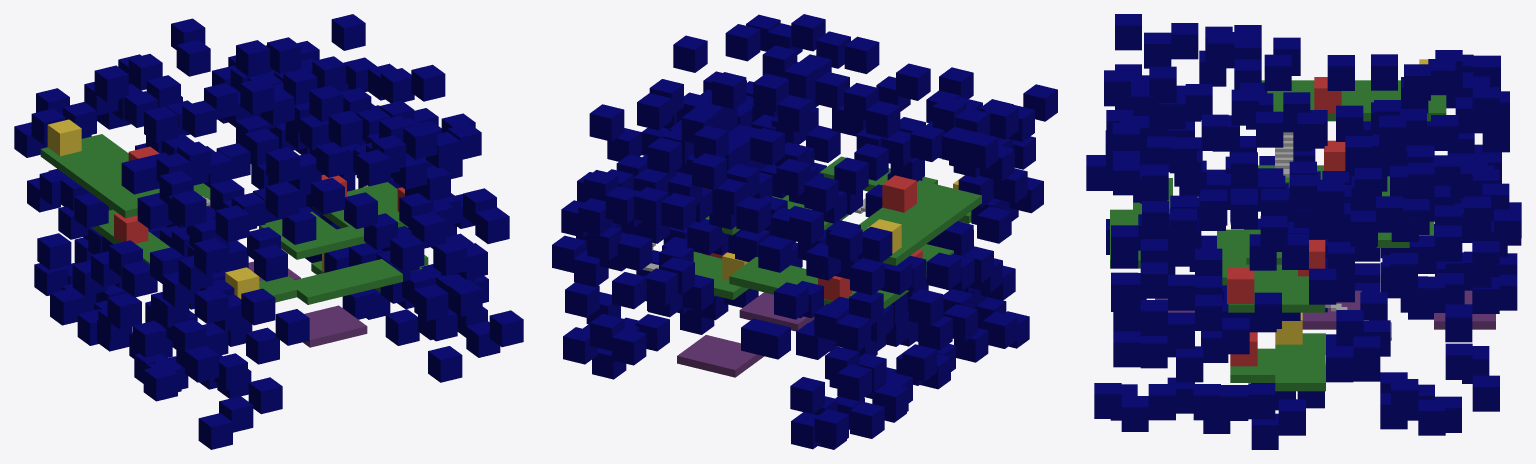
Rendered from l4Blockout01.fbx.
3 renders of one model, left to right at view 1: azimuth 30°, elevation 25°; view 2: azimuth 150°, elevation 25°; view 3: azimuth 270°, elevation 25°, orthographic. The views are drawn at different scales.
Visible parts, largest first — view 1: upp_cubes_L, upp_cubes_R, low_cubes_L, mid_cubes_L, mid_cubes_R, low_cubes_R, upp_platform, platform02, movePlatform01, platform03, platform05, upp_glitch (+4 smaller); view 2: upp_cubes_R, upp_cubes_L, mid_cubes_L, low_cubes_L, mid_cubes_R, low_cubes_R, upp_platform, movePlatform03, platform07, movePlatform02, upp_Victim, platform08 (+3 smaller); view 3: upp_cubes_R, mid_cubes_R, upp_cubes_L, low_cubes_R, mid_cubes_L, low_cubes_L, platform08, platform05, upp_platform, platform09, platform03, mid_Victim04 (+10 smaller).
Part boxes in pixels (box(x1,y1,x2,y2)): upp_cubes_L: box(14, 40, 344, 274); upp_cubes_R: box(171, 14, 481, 228); low_cubes_L: box(34, 233, 282, 449); mid_cubes_L: box(27, 143, 316, 345); mid_cubes_R: box(250, 84, 509, 303); low_cubes_R: box(266, 173, 523, 382); upp_platform: box(40, 134, 159, 218); platform02: box(288, 259, 402, 304); movePlatform01: box(303, 305, 367, 347); platform03: box(259, 212, 349, 259); platform05: box(312, 182, 408, 232); upp_glitch: box(47, 119, 81, 156); upp_cubes_R: box(577, 14, 879, 235); upp_cubes_L: box(736, 63, 1057, 295); mid_cubes_L: box(741, 117, 1043, 359); low_cubes_L: box(790, 258, 1029, 449); mid_cubes_R: box(552, 107, 840, 309); low_cubes_R: box(563, 227, 802, 379); upp_platform: box(859, 180, 981, 265); movePlatform03: box(677, 335, 763, 377); platform07: box(729, 257, 854, 305); movePlatform02: box(739, 292, 814, 331); upp_Victim: box(882, 175, 916, 212); platform08: box(693, 260, 748, 299); upp_cubes_R: box(1106, 87, 1521, 261); mid_cubes_R: box(1111, 187, 1499, 362); upp_cubes_L: box(1104, 14, 1509, 152); low_cubes_R: box(1094, 290, 1499, 449); mid_cubes_L: box(1086, 121, 1521, 256); low_cubes_L: box(1111, 198, 1517, 319); platform08: box(1275, 333, 1325, 391); platform05: box(1228, 264, 1325, 312); upp_platform: box(1261, 80, 1446, 121); platform09: box(1230, 348, 1275, 382); platform03: box(1217, 229, 1281, 264); mid_Victim04: box(1227, 268, 1254, 303).
Bounding box in the file's own units: 2453 × 1881 × 2400.
